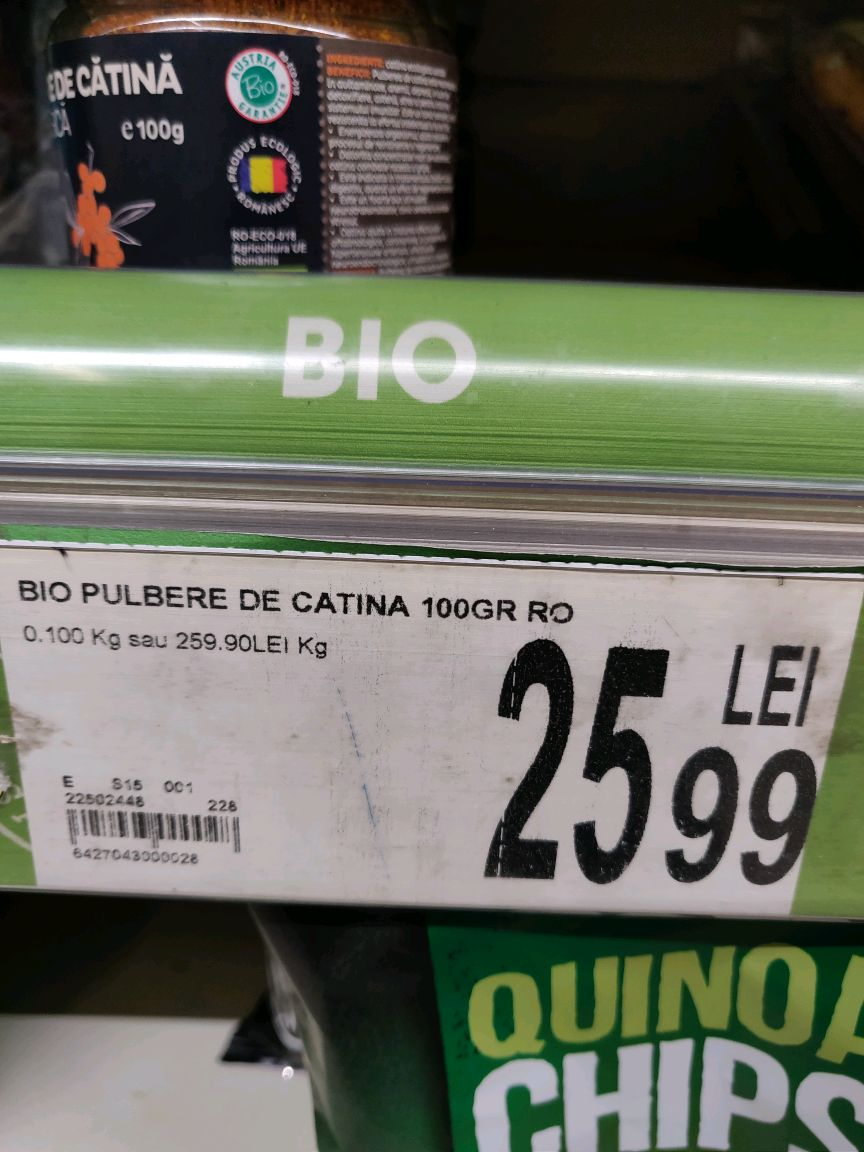price_bani: (651, 744, 824, 898)
price_lei: (451, 631, 683, 890)
price_tag: (3, 541, 848, 958)
product_id: (64, 847, 209, 870)
product_name: (11, 558, 578, 629)
